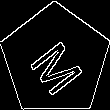M_NE: (23, 27, 88, 94)
